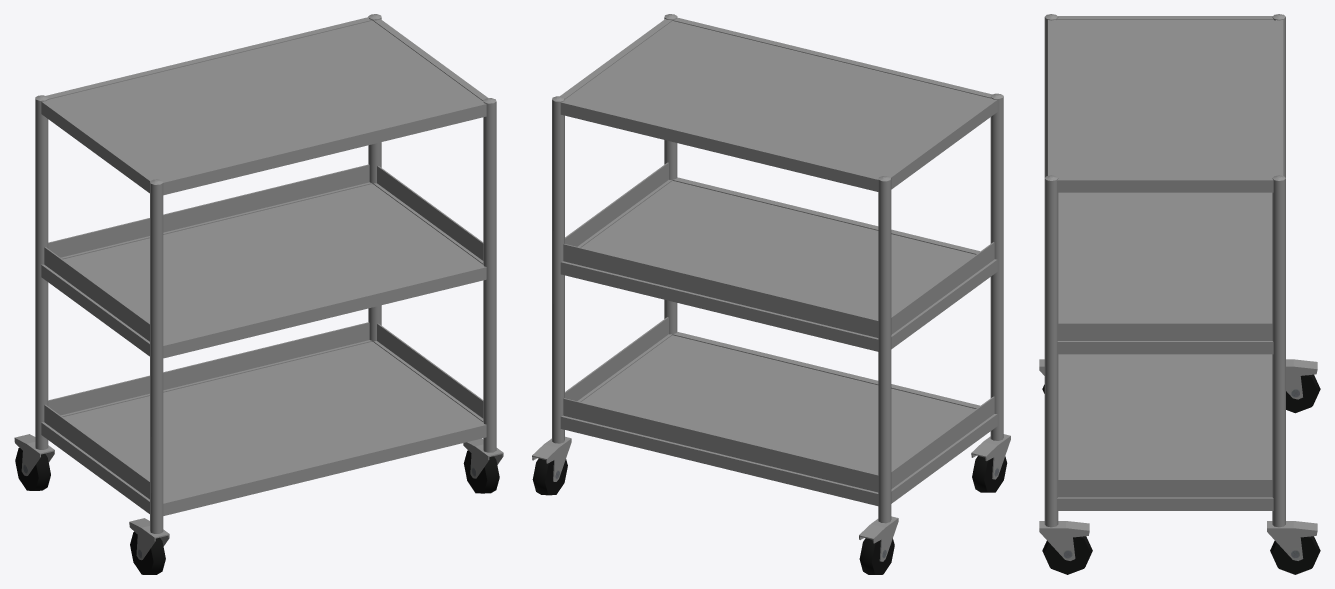
The model's file is SM_Table2.glb.
3 renders of one model, left to right at view 1: azimuth 30°, elevation 25°; view 2: azimuth 150°, elevation 25°; view 3: azimuth 270°, elevation 25°, orthographic. The views are drawn at different scales.
Parts seen in each view (by area): view 1: SM_Table; view 2: SM_Table; view 3: SM_Table.
Boxes of the visible parts, x1,y1,x2,y2 form: SM_Table: [14, 14, 503, 574]; SM_Table: [532, 14, 1010, 574]; SM_Table: [1039, 14, 1320, 574].
Size of the model in its own units: 0.7813 by 0.8558 by 0.55.
1 material, 1 textured.
